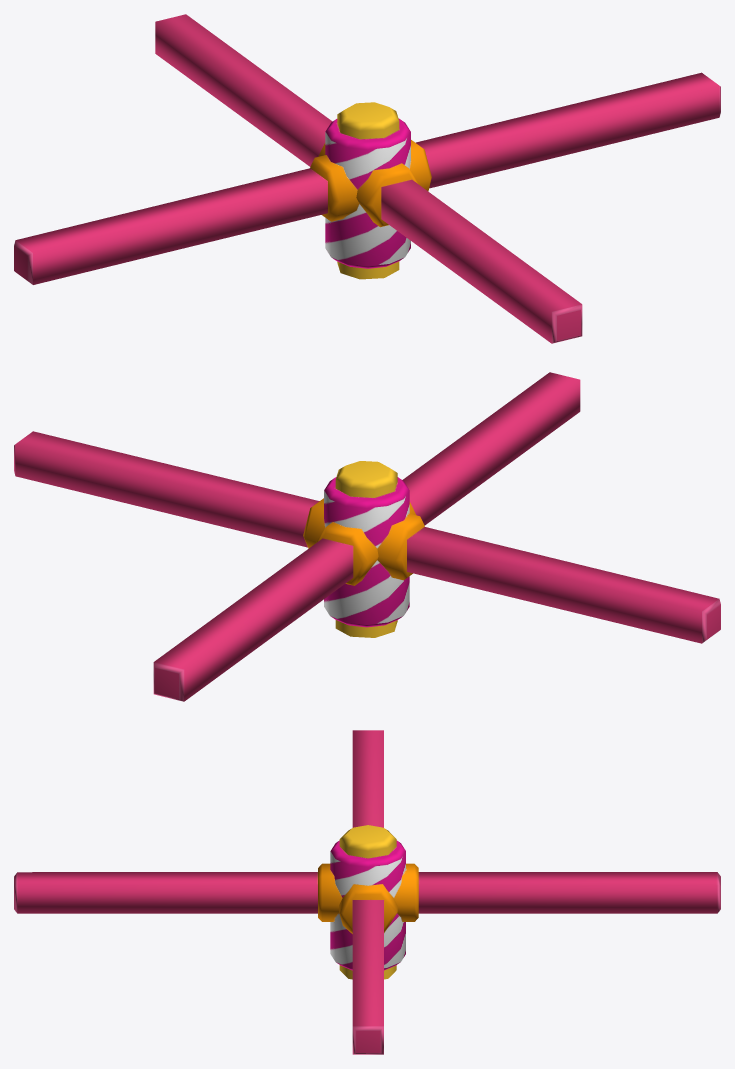
The model's file is OBS0110069.fbx.
The picture shows the model from 3 angles, top to bottom: view 1: azimuth 30°, elevation 25°; view 2: azimuth 150°, elevation 25°; view 3: azimuth 270°, elevation 25°; orthographic projection. The views are drawn at different scales.
Visible parts, largest first — view 1: smOBS0110069; view 2: smOBS0110069; view 3: smOBS0110069.
Boxes of the visible parts, <box> form: smOBS0110069: <box>14,14,720,343</box>; smOBS0110069: <box>14,372,720,701</box>; smOBS0110069: <box>14,730,720,1054</box>.
Bounding box in the file's own units: 1373 × 292 × 1373.
1 material, 1 textured.
